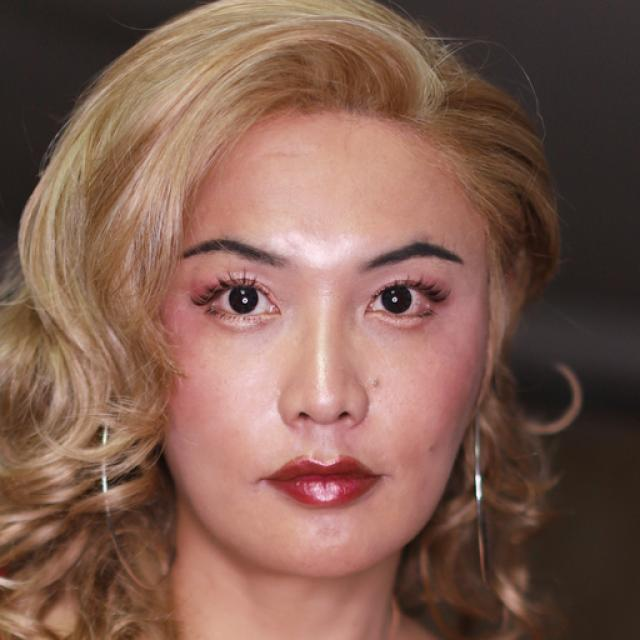Acne: (361, 367, 391, 400)
